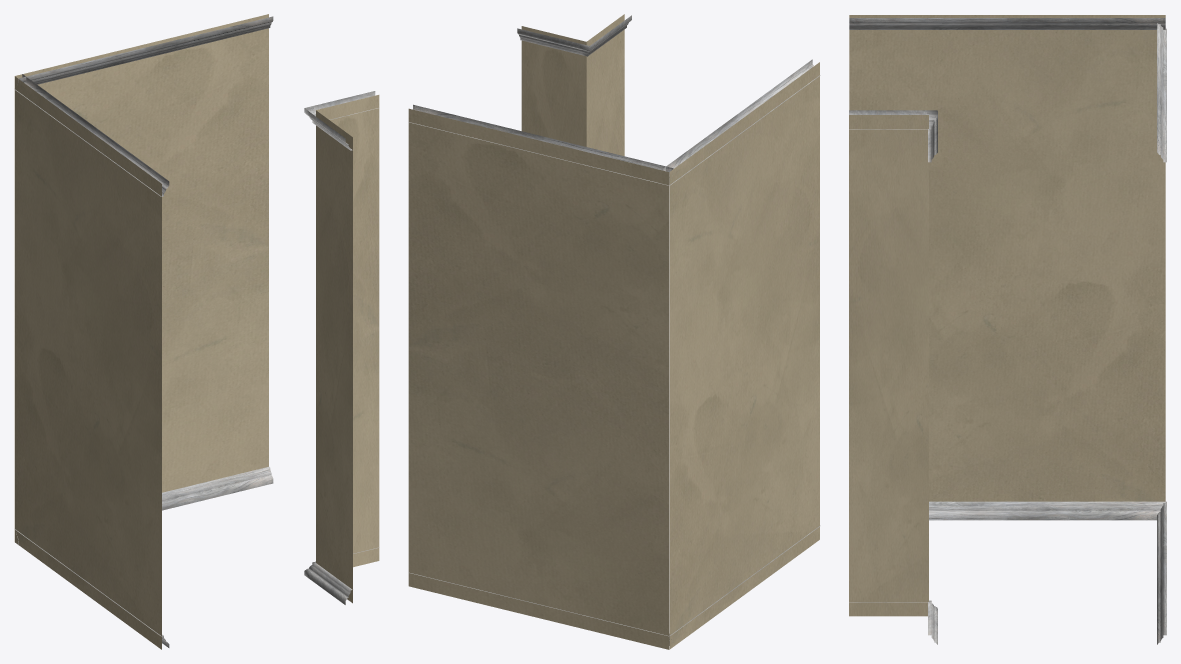
Rendered from CornerWall.fbx.
3 renders of one model, left to right at view 1: azimuth 30°, elevation 25°; view 2: azimuth 150°, elevation 25°; view 3: azimuth 270°, elevation 25°, orthographic. The views are drawn at different scales.
Visible parts, largest first — view 1: Cube.178; view 2: Cube.178; view 3: Cube.178.
Part boxes in pixels (x1=…): Cube.178: x1=14, y1=14, x2=379, y2=649; Cube.178: x1=408, y1=14, x2=820, y2=649; Cube.178: x1=849, y1=15, x2=1166, y2=644.
Bounding box in the file's own units: 80.18 × 140 × 80.39.
